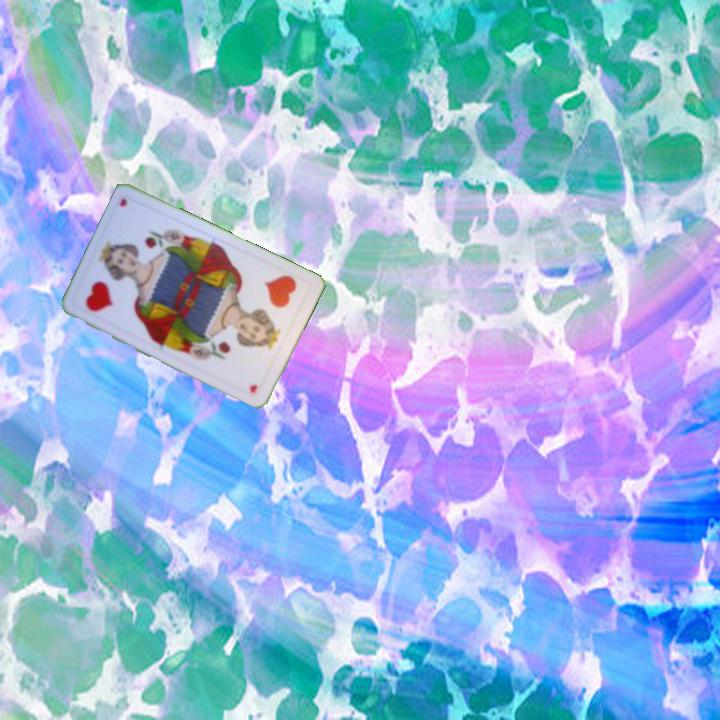h_q.png: (234, 259, 314, 343), (70, 248, 149, 332)
